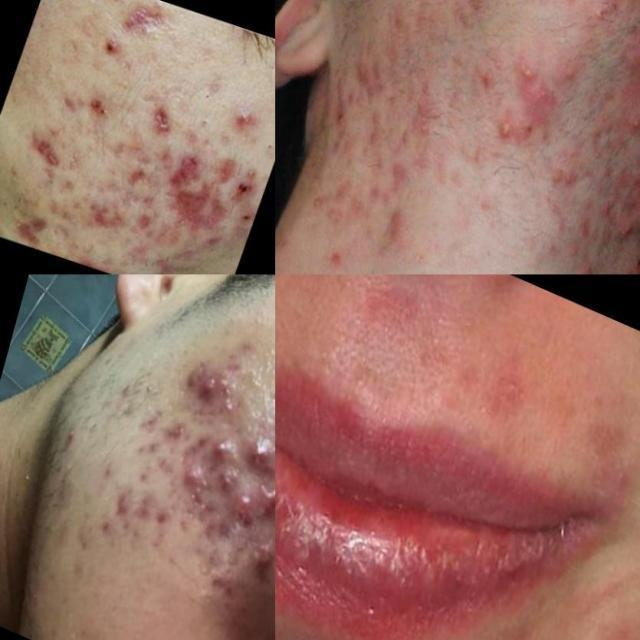Pimples: (534, 148, 598, 212), (167, 181, 228, 248), (475, 100, 530, 165), (117, 0, 180, 49), (80, 190, 134, 240), (504, 44, 546, 108), (615, 161, 640, 267), (114, 150, 166, 200), (225, 482, 265, 536), (163, 142, 204, 194), (210, 144, 248, 198), (145, 94, 182, 146), (614, 23, 640, 97), (21, 126, 63, 170), (167, 456, 209, 496), (188, 76, 230, 114), (100, 484, 134, 527), (53, 82, 91, 120), (192, 368, 222, 416), (611, 98, 640, 147), (15, 212, 52, 250), (300, 186, 332, 226), (250, 532, 276, 581), (208, 426, 241, 464), (188, 115, 223, 148), (0, 178, 23, 218), (249, 434, 275, 468), (254, 127, 276, 164), (86, 0, 131, 17), (221, 465, 241, 498), (627, 136, 640, 180), (262, 484, 275, 522)
